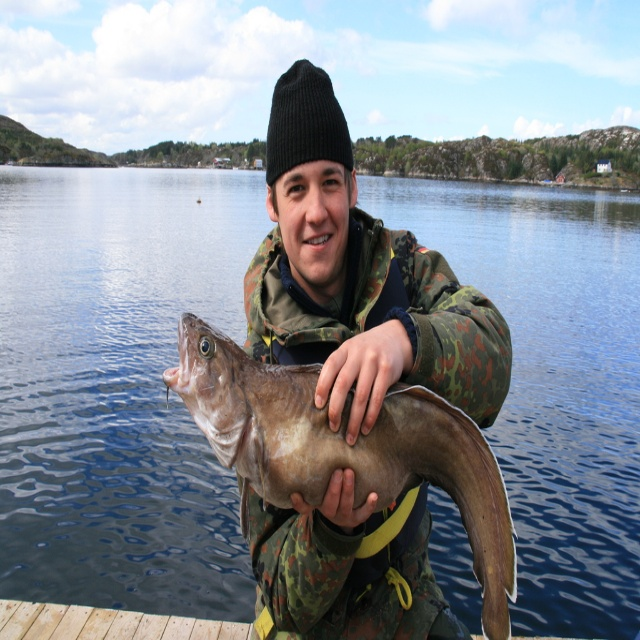Fish: (162, 312, 518, 640)
